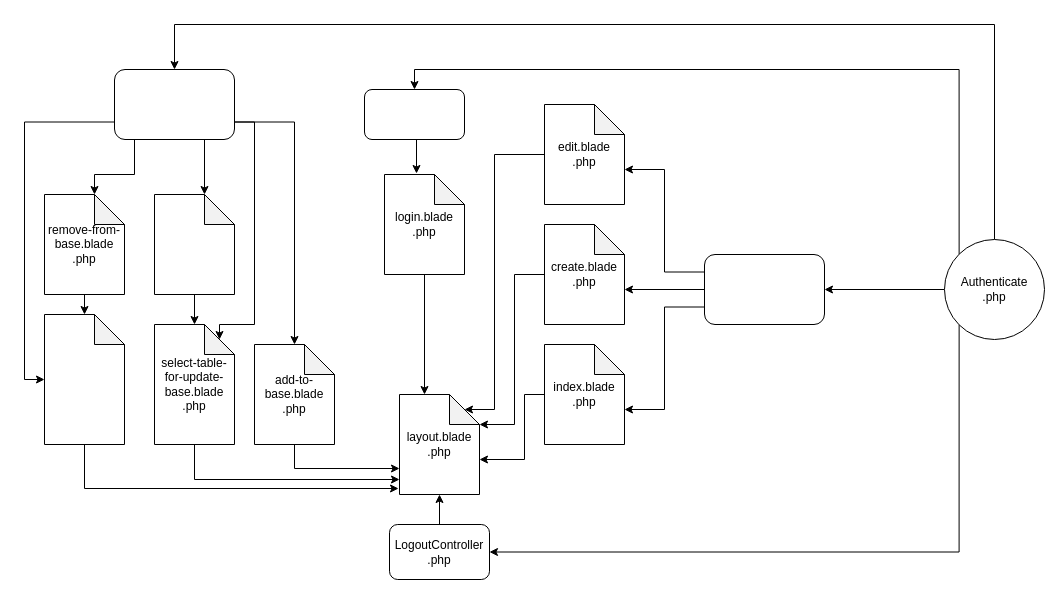
The diagram is 1062 pixels wide and 597 high, and some of its shapes have lost their labels. Each missing label, with the centre of its shape:
AdditionsToBase Controller.php: (x=174, y=104)
LoginController .php: (x=414, y=114)
PublicationPlan Controller.php: (x=764, y=289)
select-table-for-remove-from-base.blade .php: (x=84, y=379)
update-base.blade .php: (x=194, y=244)
